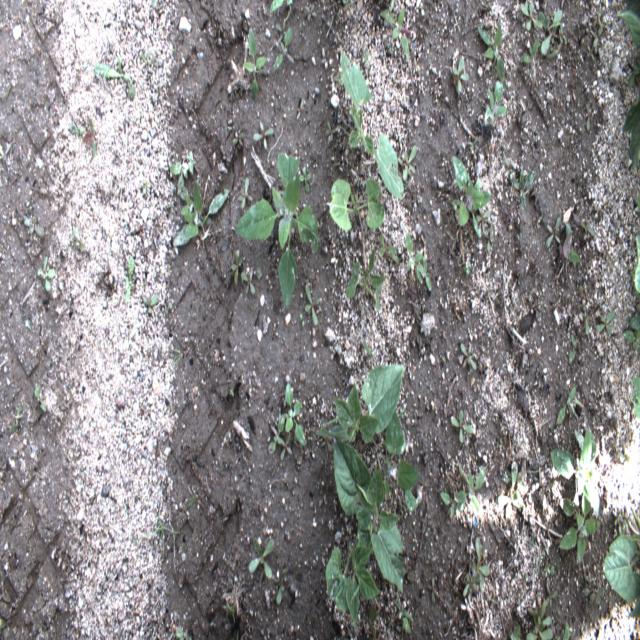crop: (325, 434, 404, 632), (339, 46, 404, 201), (314, 365, 404, 444), (381, 398, 422, 512), (601, 533, 640, 619), (328, 177, 385, 234), (344, 242, 387, 311), (622, 96, 640, 171), (616, 0, 640, 50), (629, 373, 640, 422), (634, 232, 640, 294)
weed: (235, 154, 320, 314), (550, 425, 600, 517), (173, 181, 230, 247), (556, 484, 600, 564), (452, 155, 492, 240), (242, 28, 270, 102), (93, 56, 136, 100), (280, 380, 307, 448), (462, 536, 490, 599), (405, 229, 432, 293), (498, 458, 524, 522), (476, 22, 504, 81), (380, 5, 410, 58), (536, 9, 564, 63), (558, 222, 580, 288), (457, 464, 485, 514), (482, 80, 507, 130), (168, 150, 194, 198), (524, 598, 553, 640), (247, 538, 275, 581), (554, 386, 583, 425), (386, 597, 414, 634), (272, 27, 294, 73), (513, 168, 536, 212), (439, 488, 468, 520), (376, 230, 401, 266), (302, 283, 321, 327), (451, 410, 474, 445), (267, 413, 286, 455), (35, 257, 56, 294), (449, 58, 470, 94), (622, 312, 640, 349), (253, 120, 275, 150), (521, 1, 542, 32), (402, 143, 418, 181), (6, 402, 24, 434), (460, 340, 478, 372), (545, 215, 561, 250), (83, 118, 97, 157), (626, 52, 640, 90), (23, 216, 45, 240), (596, 310, 616, 336), (521, 35, 540, 62), (186, 484, 206, 509), (230, 249, 243, 286), (274, 18, 291, 46), (475, 204, 490, 235), (125, 253, 134, 304), (276, 566, 287, 606), (278, 434, 294, 461), (298, 166, 312, 195), (590, 22, 604, 50), (577, 309, 591, 337), (34, 382, 47, 412), (241, 270, 256, 296), (71, 227, 85, 254), (320, 432, 334, 456), (145, 292, 160, 314), (584, 103, 594, 135), (568, 331, 577, 364), (579, 220, 595, 238), (140, 49, 152, 70), (232, 128, 244, 148), (305, 2, 317, 22), (591, 8, 603, 28), (508, 624, 522, 640), (578, 285, 585, 317), (148, 54, 160, 72), (68, 125, 83, 139), (174, 628, 193, 639), (269, 0, 284, 13), (561, 619, 570, 639), (298, 312, 306, 329)
